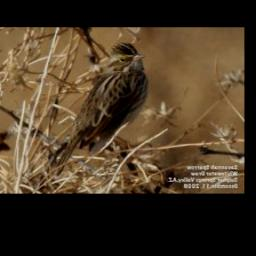Sparrow: (48, 41, 151, 179)
